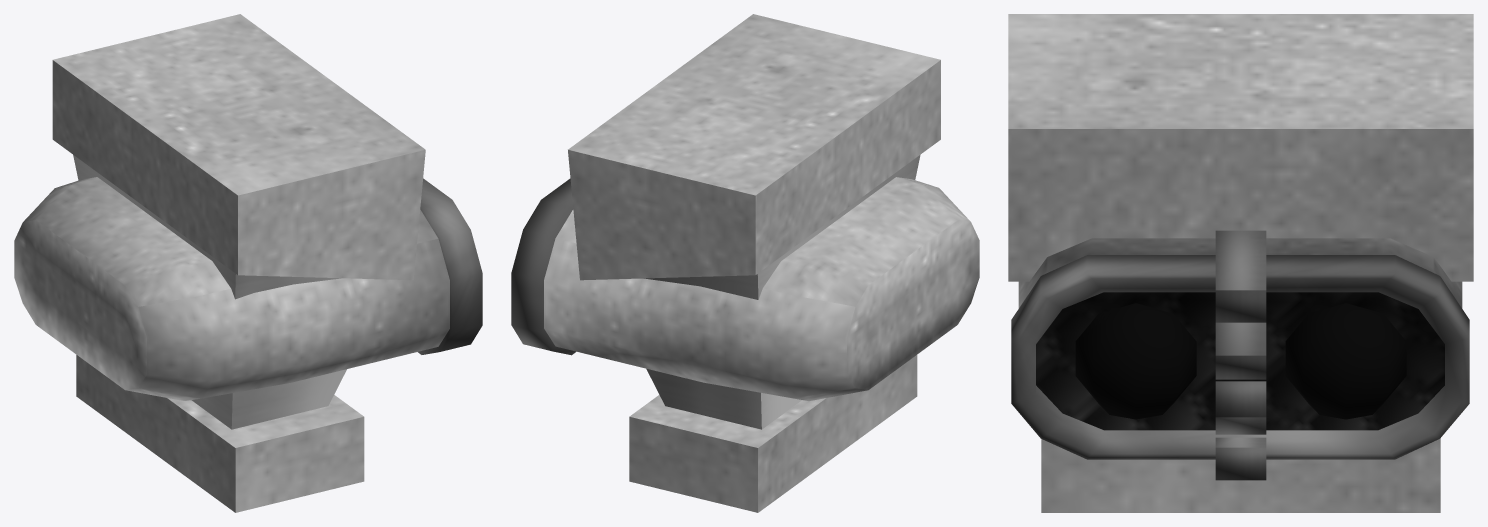
Rendered from avatar.glb.
3 views of the same model, side by side, from view 1: azimuth 30°, elevation 25°; view 2: azimuth 150°, elevation 25°; view 3: azimuth 270°, elevation 25° (orthographic). The views are drawn at different scales.
Visible parts, largest first — view 1: body, head; view 2: body, head; view 3: body, head, hand, hand_closed.
Boxes of the visible parts, left/top/right/bottom form: body: left=52, top=14, right=425, bottom=512; head: left=14, top=177, right=482, bottom=400; body: left=568, top=14, right=940, bottom=512; head: left=511, top=177, right=979, bottom=401; body: left=1008, top=14, right=1473, bottom=512; head: left=1011, top=238, right=1469, bottom=459; hand: left=1215, top=230, right=1266, bottom=480; hand_closed: left=1215, top=322, right=1266, bottom=434.
Bounding box in the file's own units: 1.04 × 0.9779 × 0.9972.
1 material, 1 textured.
